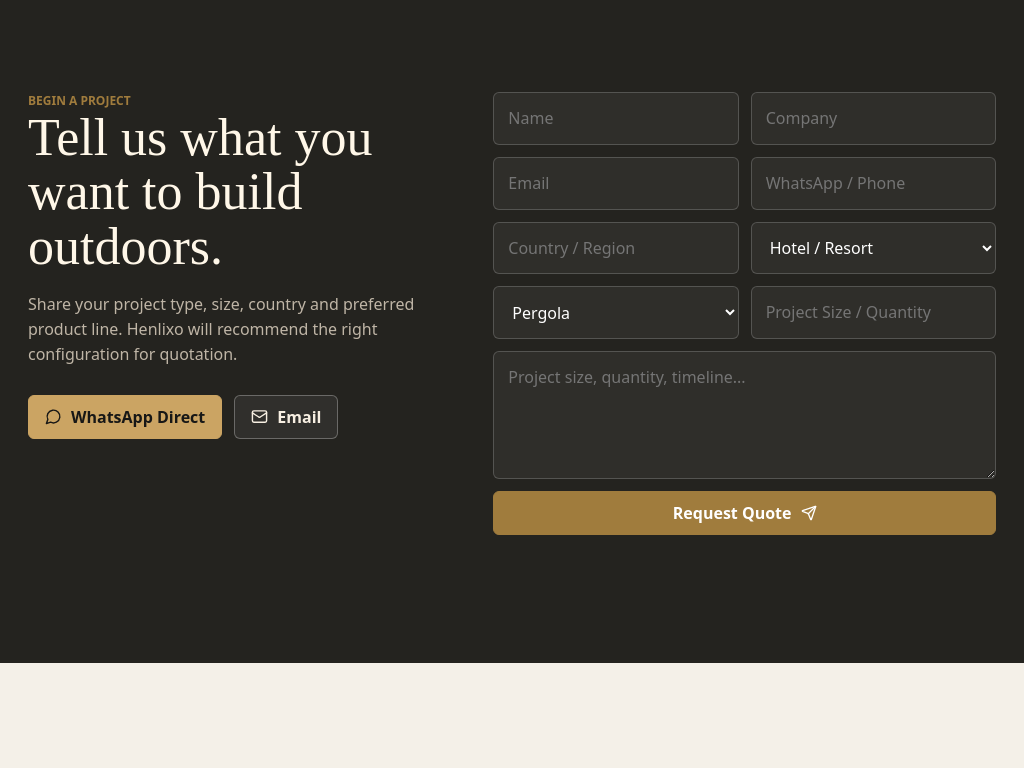
Scenario: ContactSection › submits inquiry payload and shows success
Step 1. Type "Jane Buyer" into the field with placeholder "Name" → (616,118), box [493,92,739,145]
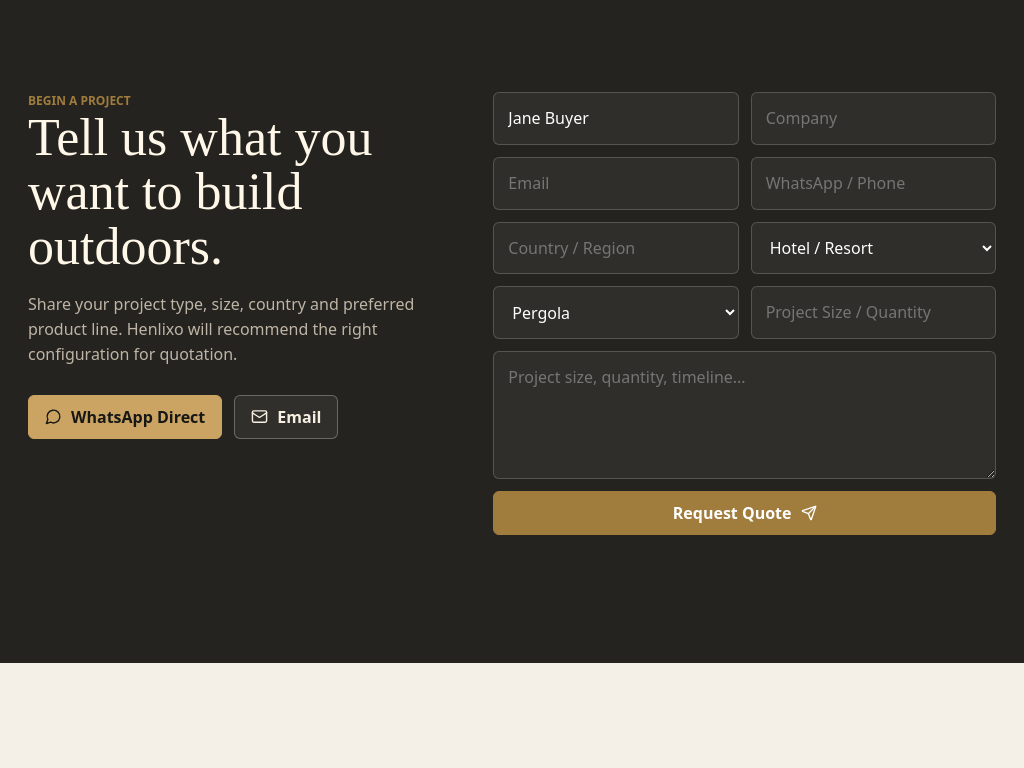
Step 2. Type "jane@example.com" into the field with placeholder "Email" → (616,183), box [493,157,739,210]
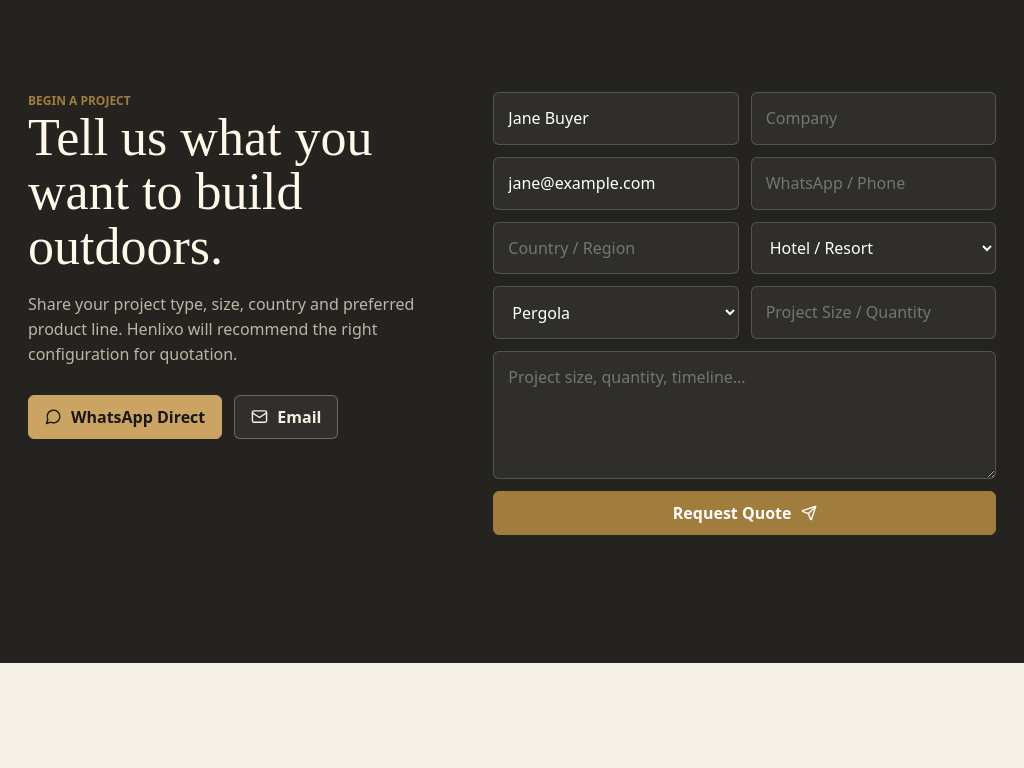
Step 3. Type "USA" into the field with placeholder "Country / Region" → (616,248), box [493,222,739,274]
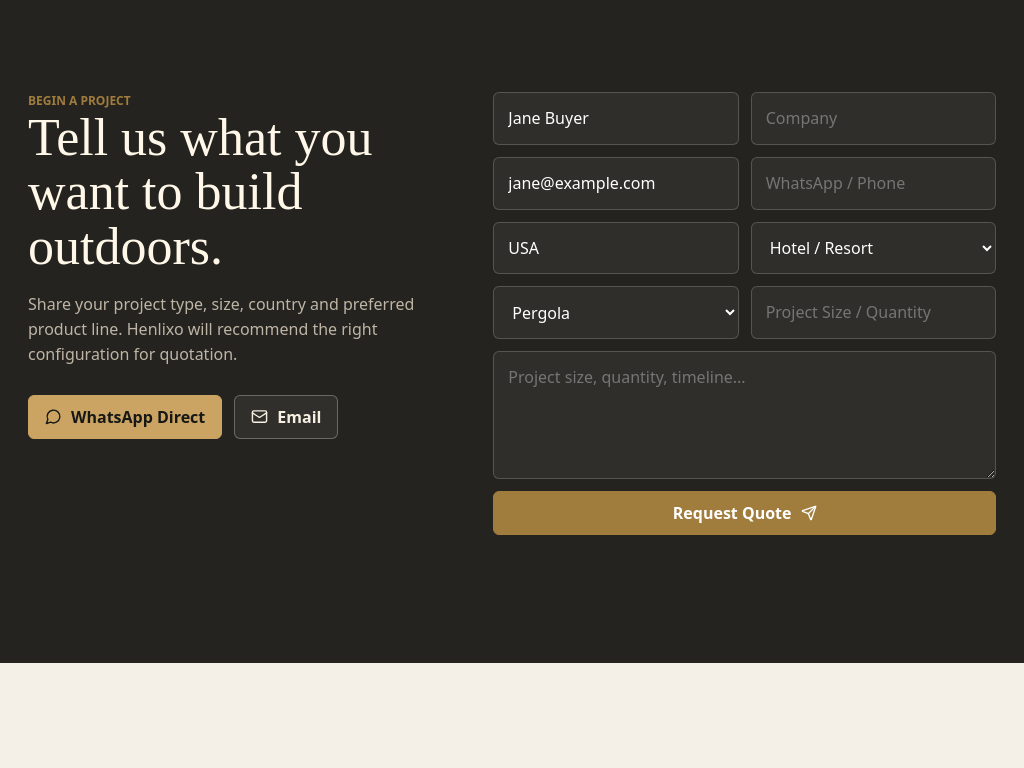
Step 4. Type "12 pergolas" into the field with placeholder "Project Size / Quantity" → (873,313), box [751,286,996,339]
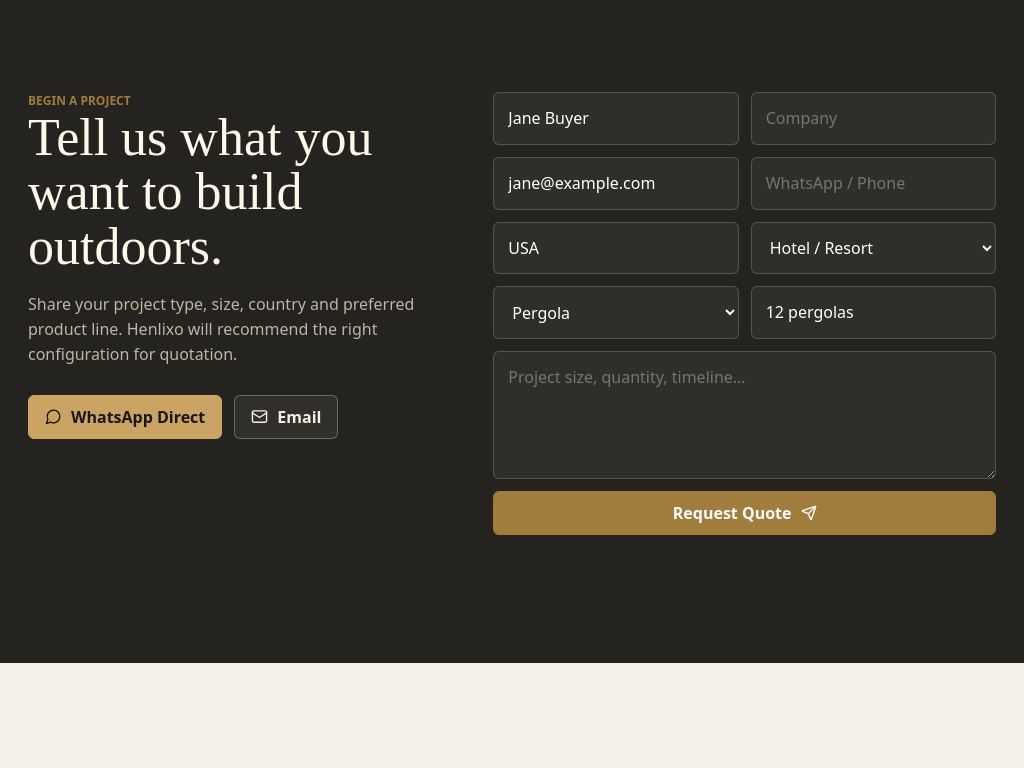
Step 5. Type "Please quote a resort pergola project." into the text box with placeholder "Project size, quantity, timeline..." → (745,415), box [493,351,996,479]
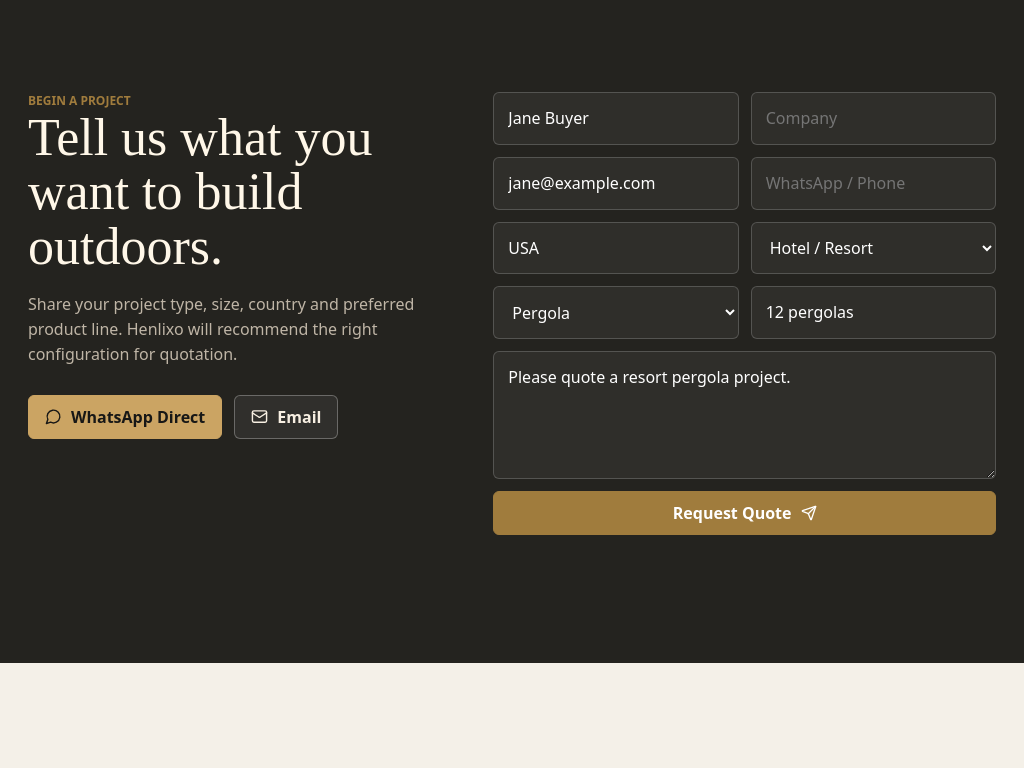
Step 6. Click the button "Request Quote" → (745,513), box [493,491,996,535]
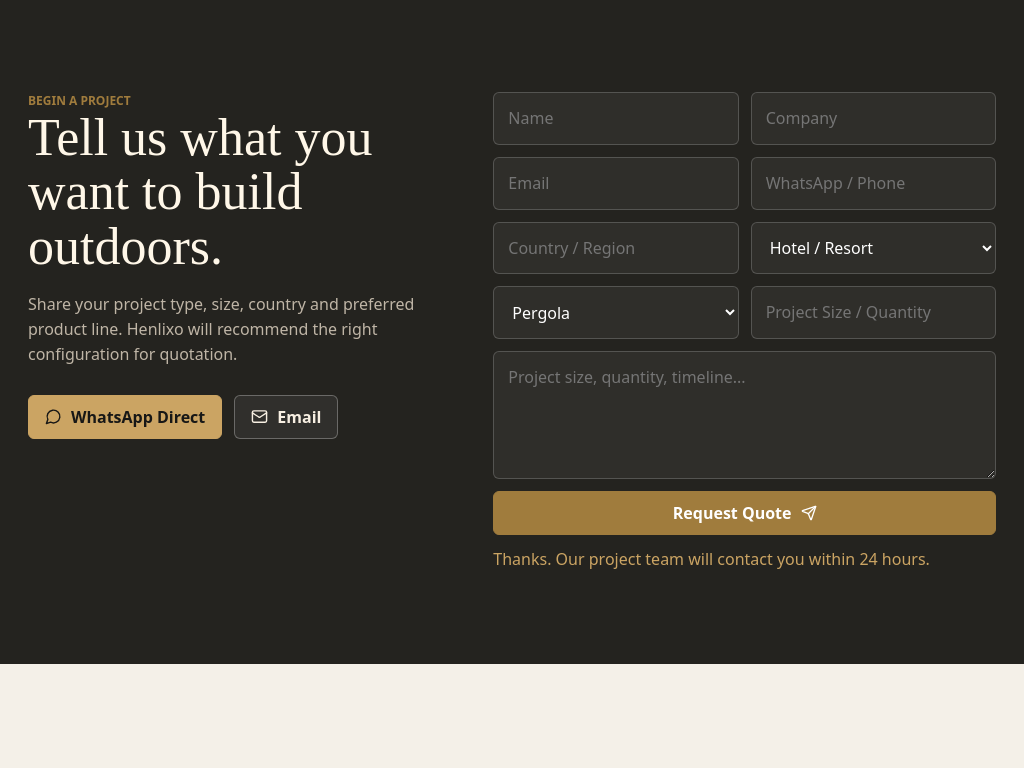
Expected: the text "Thanks. Our project team will contact you within 24 hours." is shown, [493,547,996,572]
